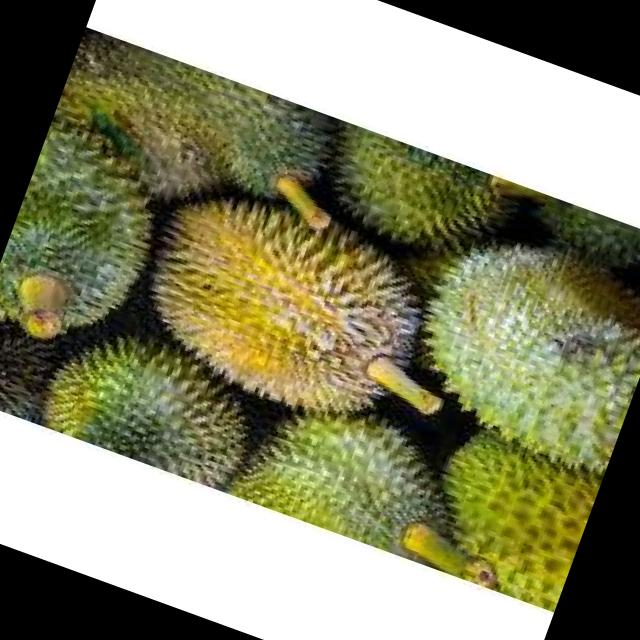fruit: (94, 141, 462, 477), (0, 277, 301, 604), (376, 188, 640, 504), (0, 71, 214, 441)
